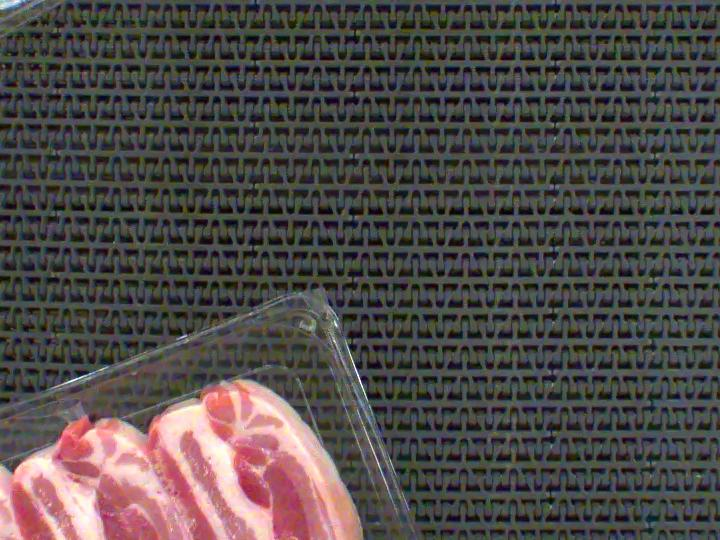packaging-error: (56, 402, 97, 427)
